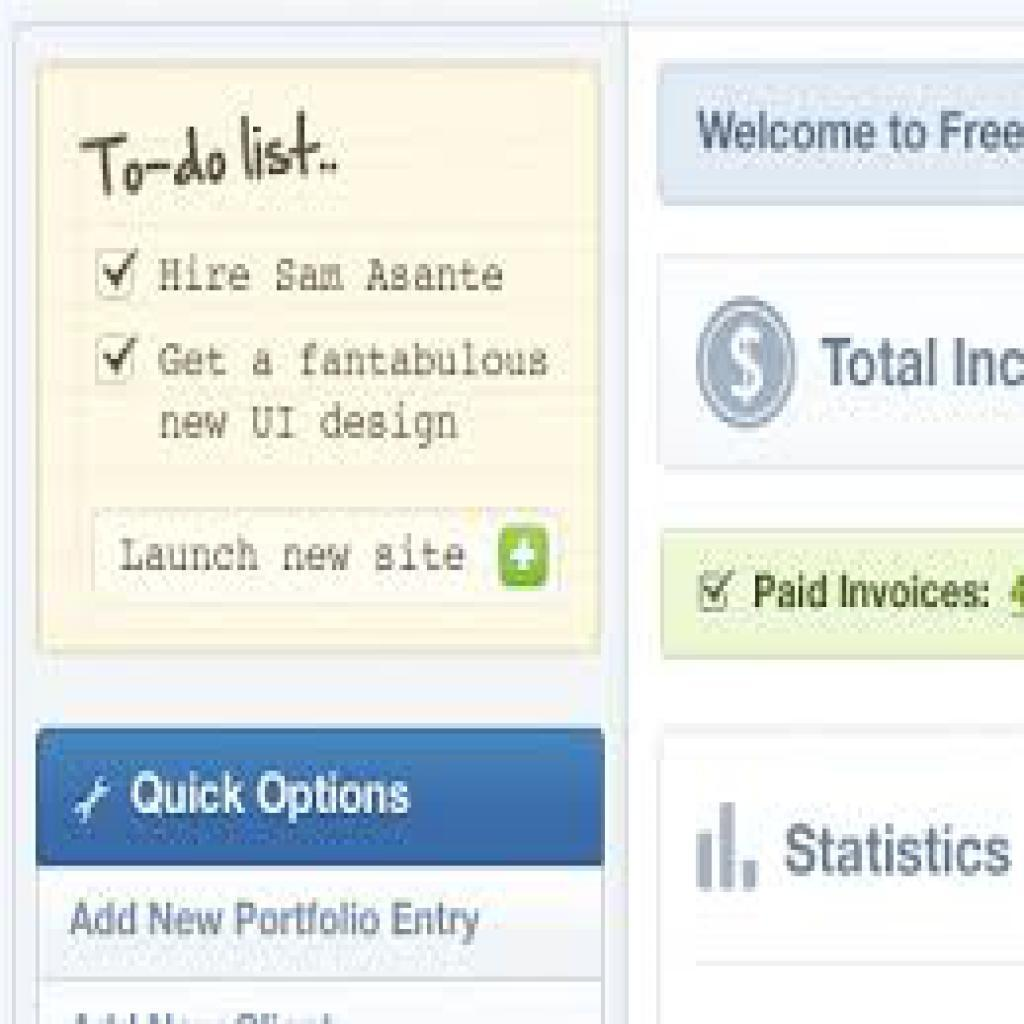button: (38, 727, 606, 868), (38, 869, 605, 983), (93, 510, 560, 600)
checkbox: (94, 335, 136, 387), (96, 249, 136, 300), (698, 573, 733, 614)
